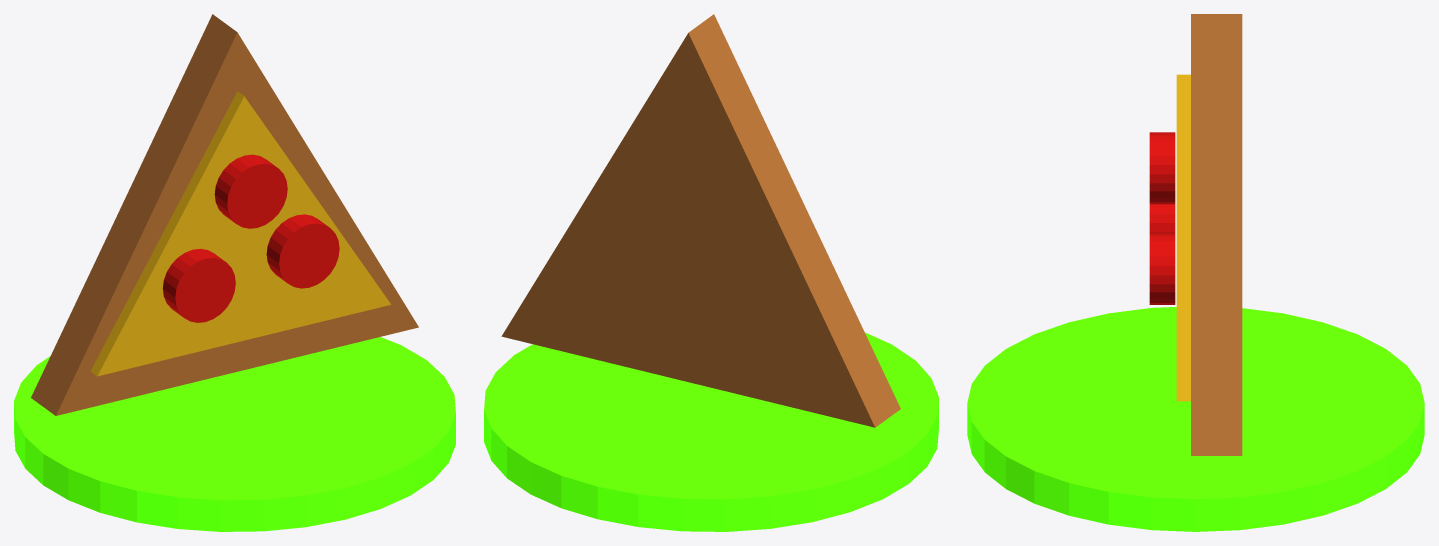
File: food_pizza_slice.dae
3 views of the same model, side by side, from view 1: azimuth 30°, elevation 25°; view 2: azimuth 150°, elevation 25°; view 3: azimuth 270°, elevation 25° (orthographic). The views are drawn at different scales.
Parts seen in each view (by area): view 1: 01_02_Popular_Food_Pizza_Slice_ROOT_base, 01_02_Popular_Food_Pizza_Slice_part_01, 01_02_Popular_Food_Pizza_Slice_part_02, 01_02_Popular_Food_Pizza_Slice_part_04, 01_02_Popular_Food_Pizza_Slice_part_03, 01_02_Popular_Food_Pizza_Slice_part_05; view 2: 01_02_Popular_Food_Pizza_Slice_part_01, 01_02_Popular_Food_Pizza_Slice_ROOT_base; view 3: 01_02_Popular_Food_Pizza_Slice_ROOT_base, 01_02_Popular_Food_Pizza_Slice_part_01, 01_02_Popular_Food_Pizza_Slice_part_02, 01_02_Popular_Food_Pizza_Slice_part_05, 01_02_Popular_Food_Pizza_Slice_part_04, 01_02_Popular_Food_Pizza_Slice_part_03.
Part boxes in pixels (<box>): 01_02_Popular_Food_Pizza_Slice_ROOT_base: <box>14,337,455,531</box>; 01_02_Popular_Food_Pizza_Slice_part_01: <box>31,14,418,415</box>; 01_02_Popular_Food_Pizza_Slice_part_02: <box>90,91,390,376</box>; 01_02_Popular_Food_Pizza_Slice_part_04: <box>266,214,339,288</box>; 01_02_Popular_Food_Pizza_Slice_part_03: <box>162,248,235,322</box>; 01_02_Popular_Food_Pizza_Slice_part_05: <box>214,154,287,228</box>; 01_02_Popular_Food_Pizza_Slice_part_01: <box>501,14,900,427</box>; 01_02_Popular_Food_Pizza_Slice_ROOT_base: <box>484,332,938,531</box>; 01_02_Popular_Food_Pizza_Slice_ROOT_base: <box>967,307,1424,531</box>; 01_02_Popular_Food_Pizza_Slice_part_01: <box>1191,14,1242,455</box>; 01_02_Popular_Food_Pizza_Slice_part_02: <box>1176,74,1190,401</box>; 01_02_Popular_Food_Pizza_Slice_part_05: <box>1149,132,1175,204</box>; 01_02_Popular_Food_Pizza_Slice_part_04: <box>1149,233,1175,304</box>; 01_02_Popular_Food_Pizza_Slice_part_03: <box>1149,204,1175,233</box>.
Bounding box in the file's own units: 0.76 × 0.7729 × 0.76.
